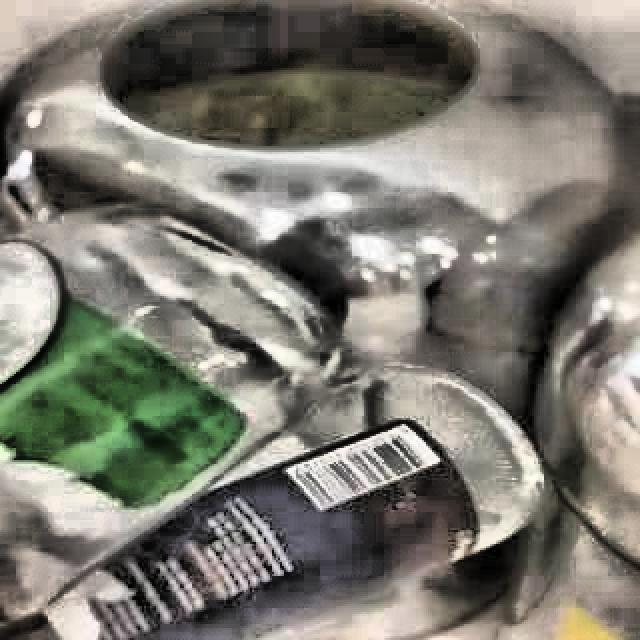glass: (0, 206, 544, 640)
